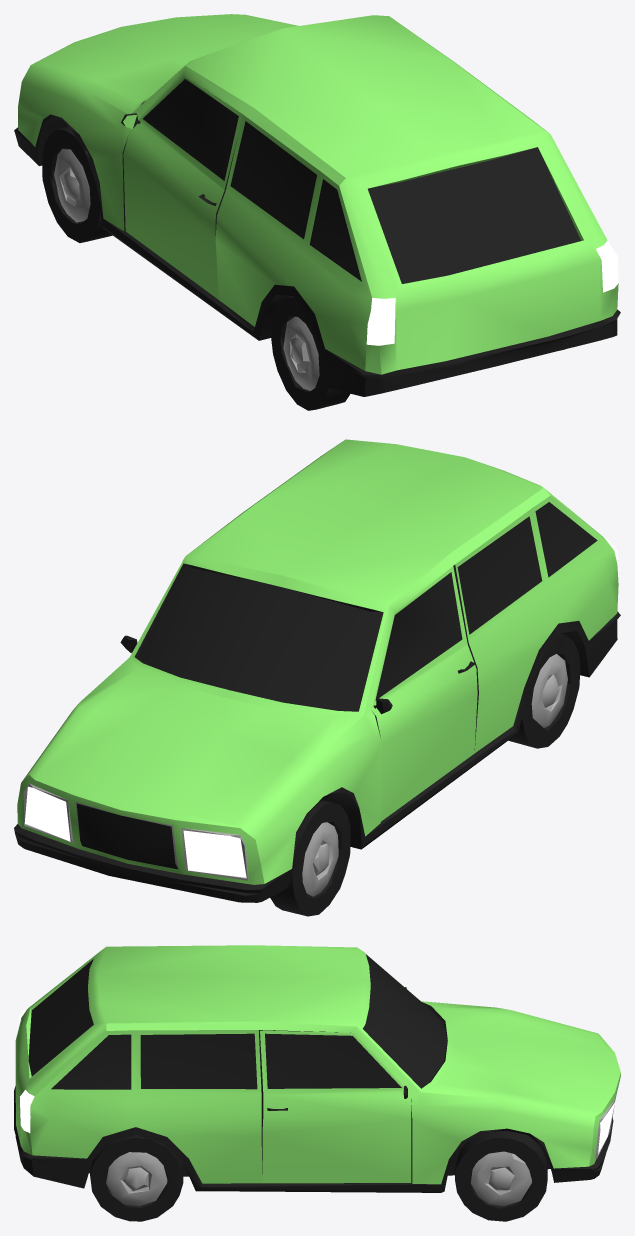
Rendered from car.glb.
3 views of the same model, one above another, from view 1: azimuth 30°, elevation 25°; view 2: azimuth 150°, elevation 25°; view 3: azimuth 270°, elevation 25° (orthographic). The views are drawn at different scales.
Visible parts, largest first — view 1: Car, WheelFL, WheelBL; view 2: Car, WheelFL, WheelBL; view 3: Car, WheelFR, WheelBR.
Part boxes in pixels (bbox=[...]): Car: bbox=[14, 14, 620, 396]; WheelFL: bbox=[42, 126, 112, 242]; WheelBL: bbox=[271, 296, 350, 410]; Car: bbox=[14, 439, 620, 902]; WheelFL: bbox=[270, 800, 350, 916]; WheelBL: bbox=[508, 633, 580, 748]; Car: bbox=[14, 945, 620, 1192]; WheelFR: bbox=[455, 1130, 547, 1221]; WheelBR: bbox=[90, 1135, 183, 1221].
Bounding box in the file's own units: 0.9562 × 0.8209 × 2.33.
